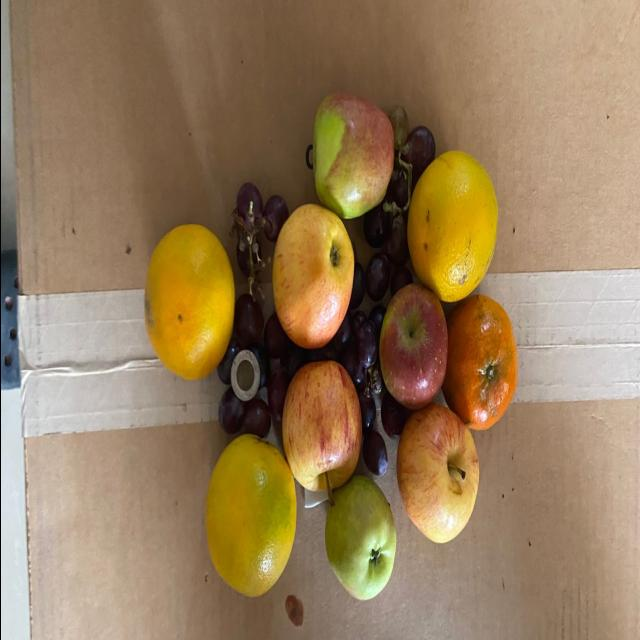moneda: (228, 351, 260, 393)
